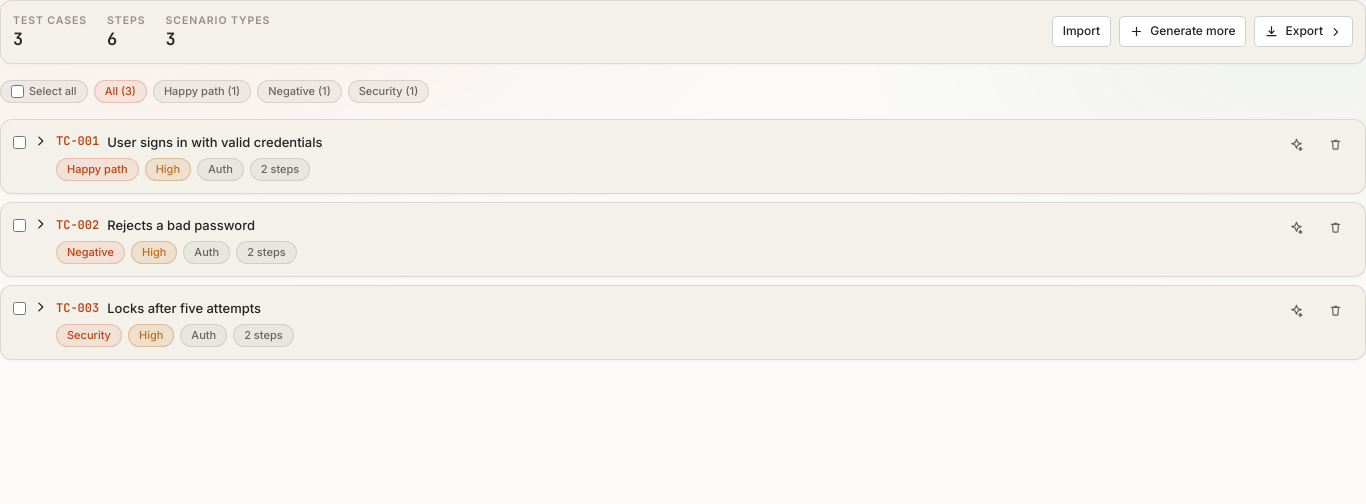
Test: TestCasesDisplay selection › scopes the export dropdown to the selection
Click the checkbox named "Select TC-001" at x=20, y=142, box [13,136,26,149]
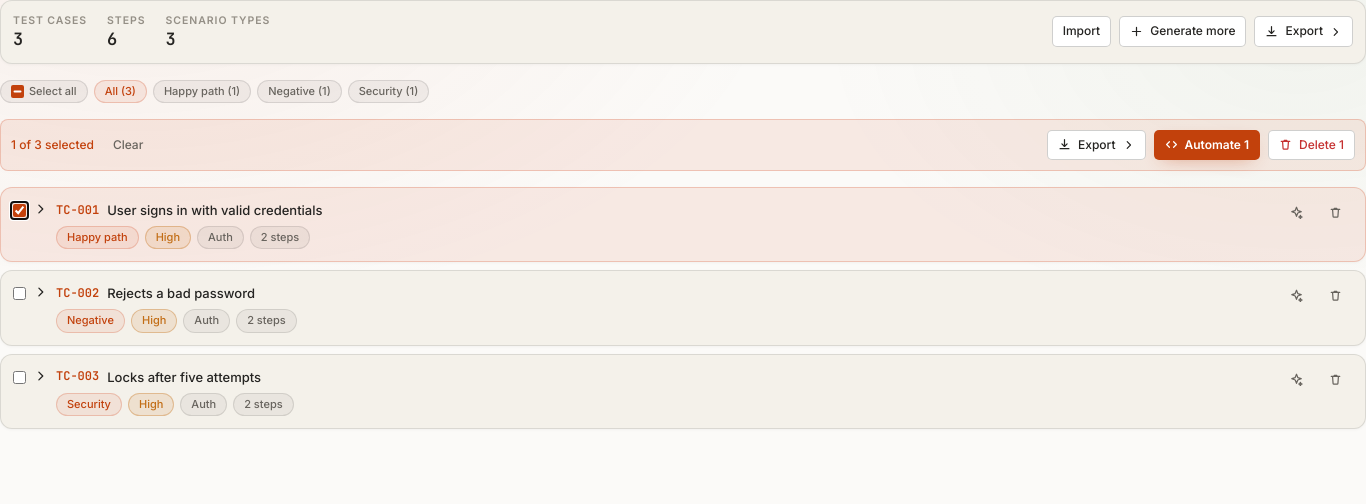
Click the button "Export" in the row of "selected" at x=1096, y=145, box [1047,130,1146,160]
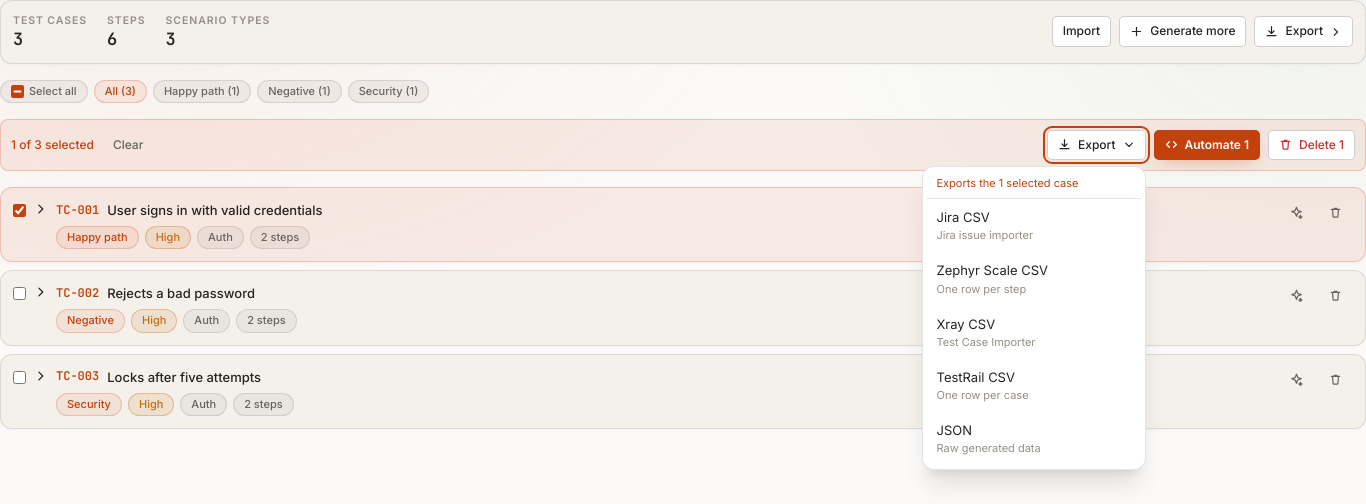
Result: the text "Exports the 1 selected case" is shown at [926,171,1140,199]
